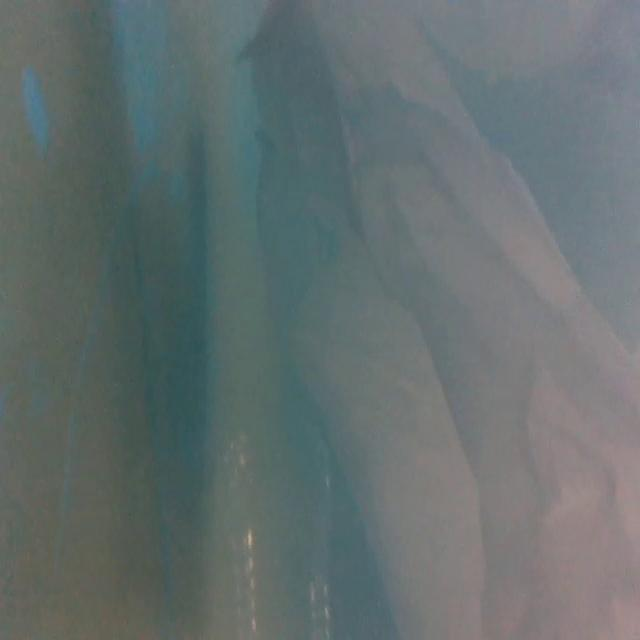plastic bags: (242, 4, 640, 635)
plastic bottle: (210, 417, 298, 640)
